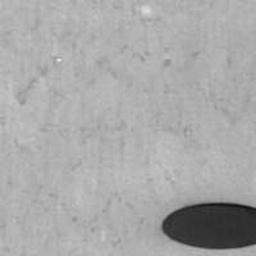Punching: (161, 200, 256, 252)
